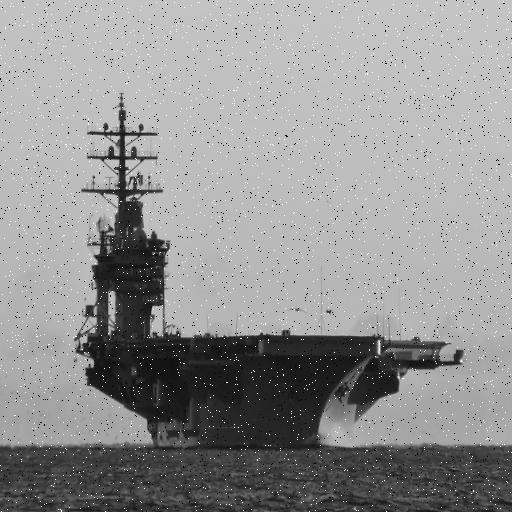Portanaves: (76, 90, 470, 450)
